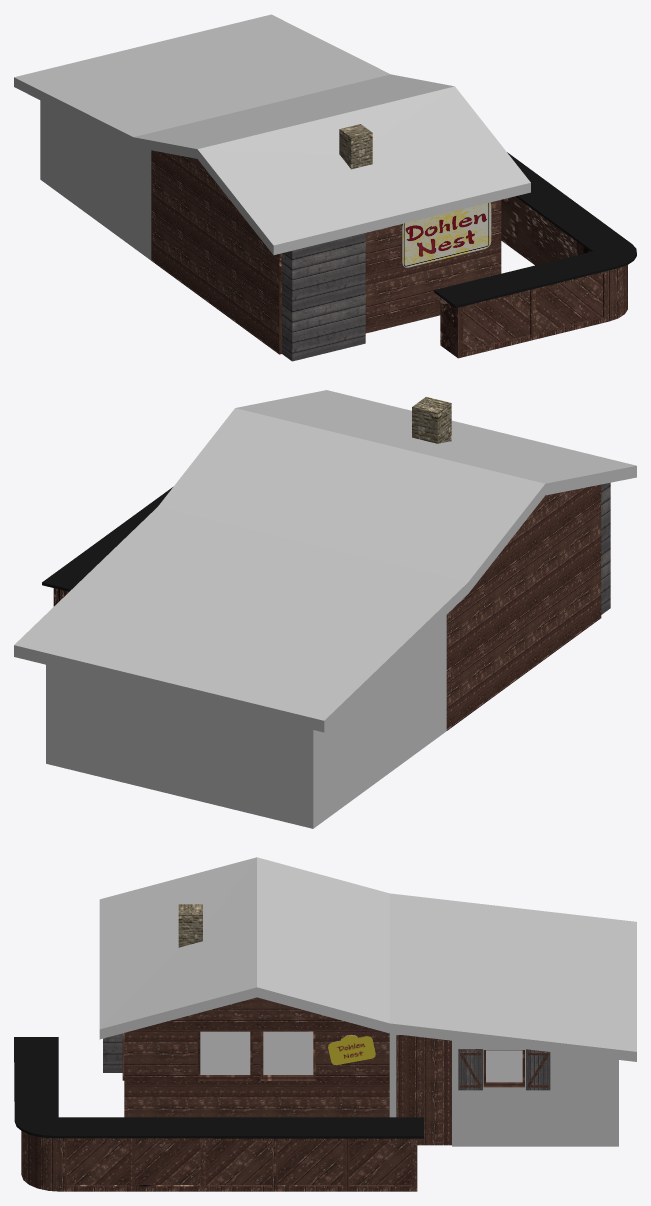
The model's file is Don't use.fbx.
The picture shows the model from 3 angles, top to bottom: view 1: azimuth 30°, elevation 25°; view 2: azimuth 150°, elevation 25°; view 3: azimuth 270°, elevation 25°; orthographic projection. The views are drawn at different scales.
Parts seen in each view (by area): view 1: DohlenNest_Mesh; view 2: DohlenNest_Mesh; view 3: DohlenNest_Mesh.
Boxes of the visible parts, x1,y1,x2,y2 form: DohlenNest_Mesh: [14, 14, 636, 361]; DohlenNest_Mesh: [14, 390, 636, 828]; DohlenNest_Mesh: [14, 857, 636, 1191].
Bounding box in the file's own units: 654 × 322 × 1011.
